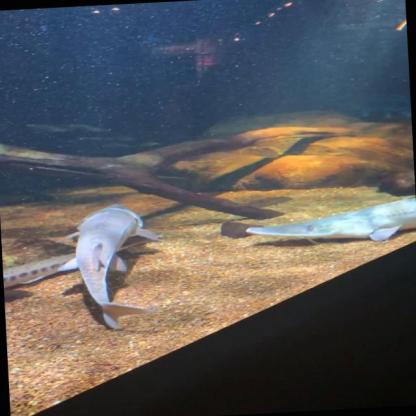fish: (242, 196, 416, 251), (2, 234, 166, 290)
shark: (57, 201, 166, 335)
